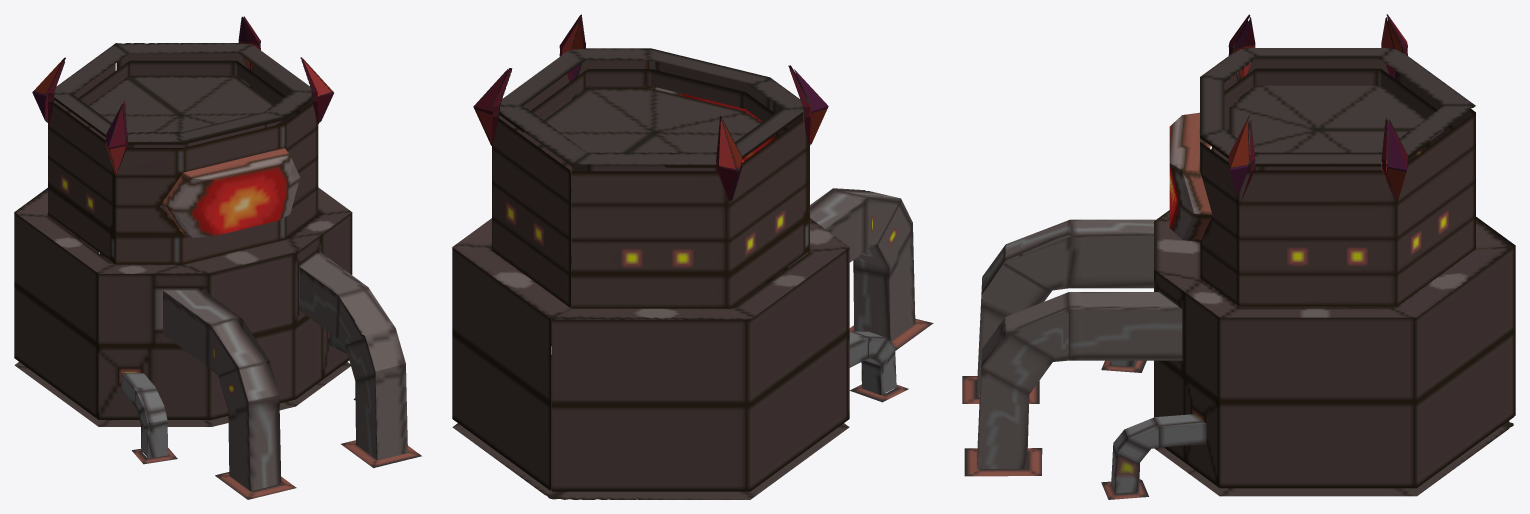
The model's file is B_Foundry.fbx.
The picture shows the model from 3 angles, left to right: view 1: azimuth 30°, elevation 25°; view 2: azimuth 150°, elevation 25°; view 3: azimuth 270°, elevation 25°; orthographic projection. The views are drawn at different scales.
Visible parts, largest first — view 1: B_Foundry, B_Fondry_spike; view 2: B_Foundry, B_Fondry_spike; view 3: B_Foundry, B_Fondry_spike.
Part boxes in pixels (<box>): B_Foundry: <box>14,43,421,499</box>; B_Fondry_spike: <box>32,16,333,175</box>; B_Foundry: <box>452,48,933,499</box>; B_Fondry_spike: <box>473,14,828,205</box>; B_Foundry: <box>962,48,1515,499</box>; B_Fondry_spike: <box>1228,14,1407,202</box>.
Bounding box in the file's own units: 53.17 × 60.65 × 84.14.
2 materials, 2 textured.
